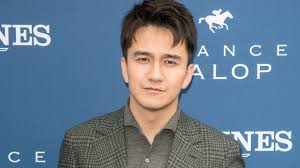eye: (162, 58, 182, 68), (133, 56, 152, 65)
mouth: (138, 83, 169, 95)
nose: (146, 73, 166, 83)
